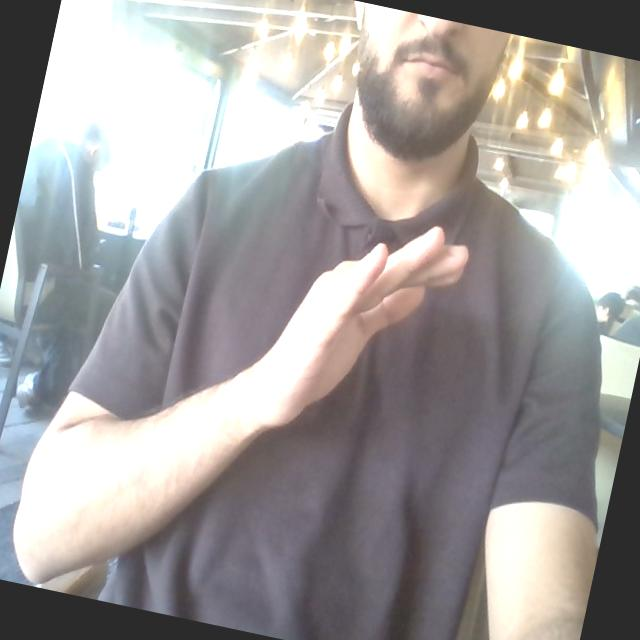Hand: (248, 228, 467, 426)
